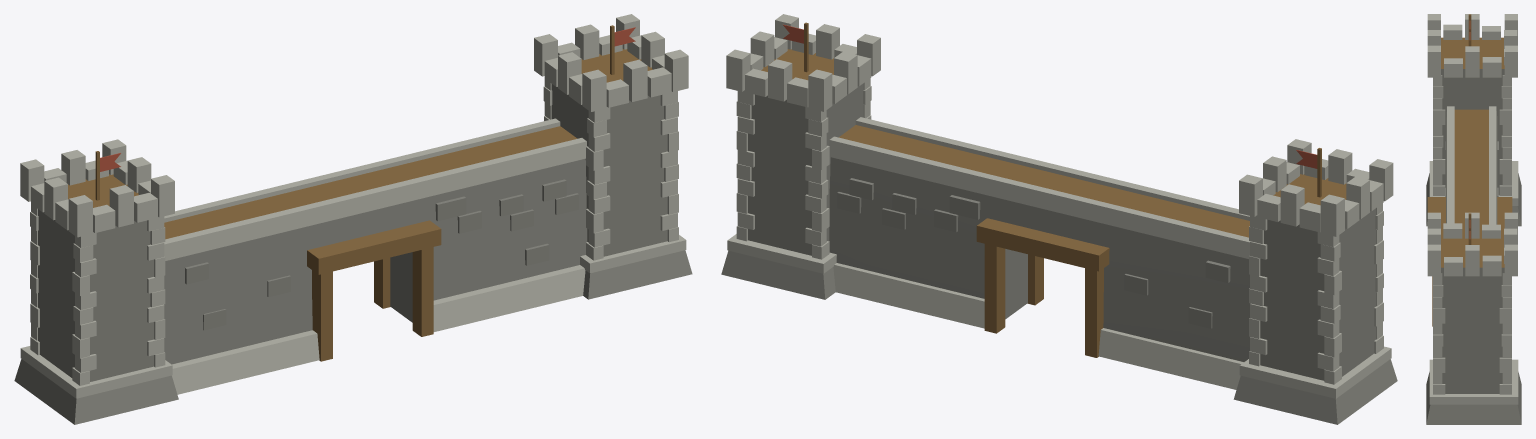
The model's file is Wall Towers Door Seco.glb.
The picture shows the model from 3 angles, left to right: view 1: azimuth 30°, elevation 25°; view 2: azimuth 150°, elevation 25°; view 3: azimuth 270°, elevation 25°; orthographic projection. The views are drawn at different scales.
Visible parts, largest first — view 1: Wall Towers Door Seco; view 2: Wall Towers Door Seco; view 3: Wall Towers Door Seco.
Boxes of the visible parts, bbox=[...] form: Wall Towers Door Seco: bbox=[14, 14, 692, 424]; Wall Towers Door Seco: bbox=[721, 14, 1397, 424]; Wall Towers Door Seco: bbox=[1426, 14, 1521, 424].
Bounding box in the file's own units: 1.98 × 0.7372 × 0.3334.
